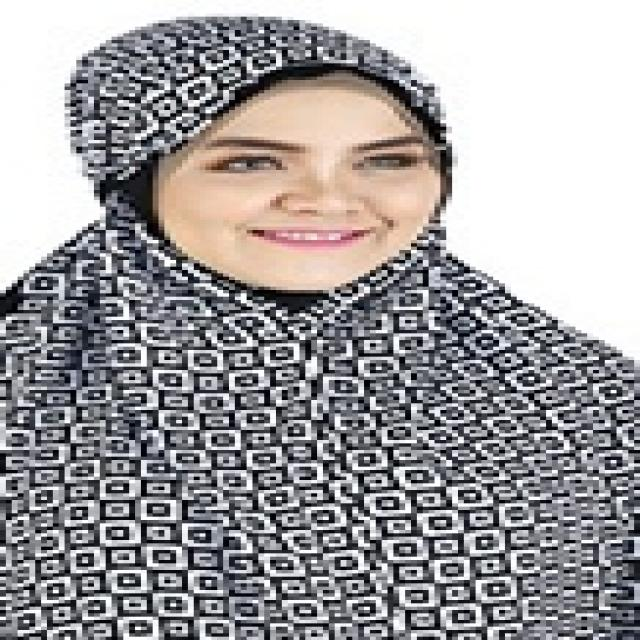head: (95, 21, 472, 322)
